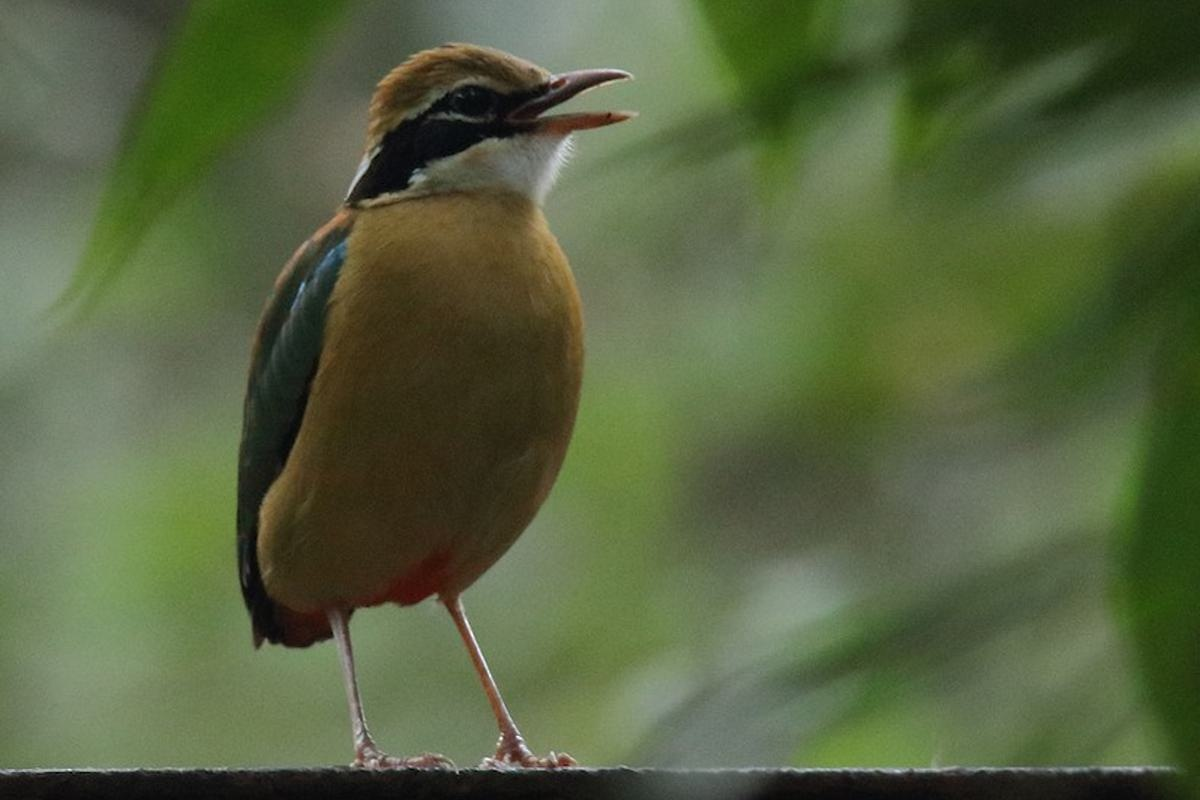pitta: (88, 21, 686, 800)
